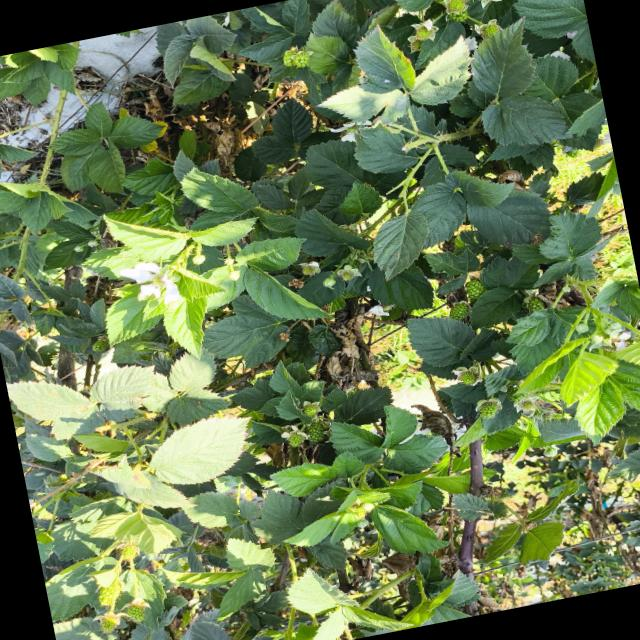boton: (192, 254, 206, 265), (323, 277, 336, 288), (228, 270, 240, 281), (225, 257, 235, 265)
flor: (120, 262, 180, 304), (329, 121, 372, 142)
